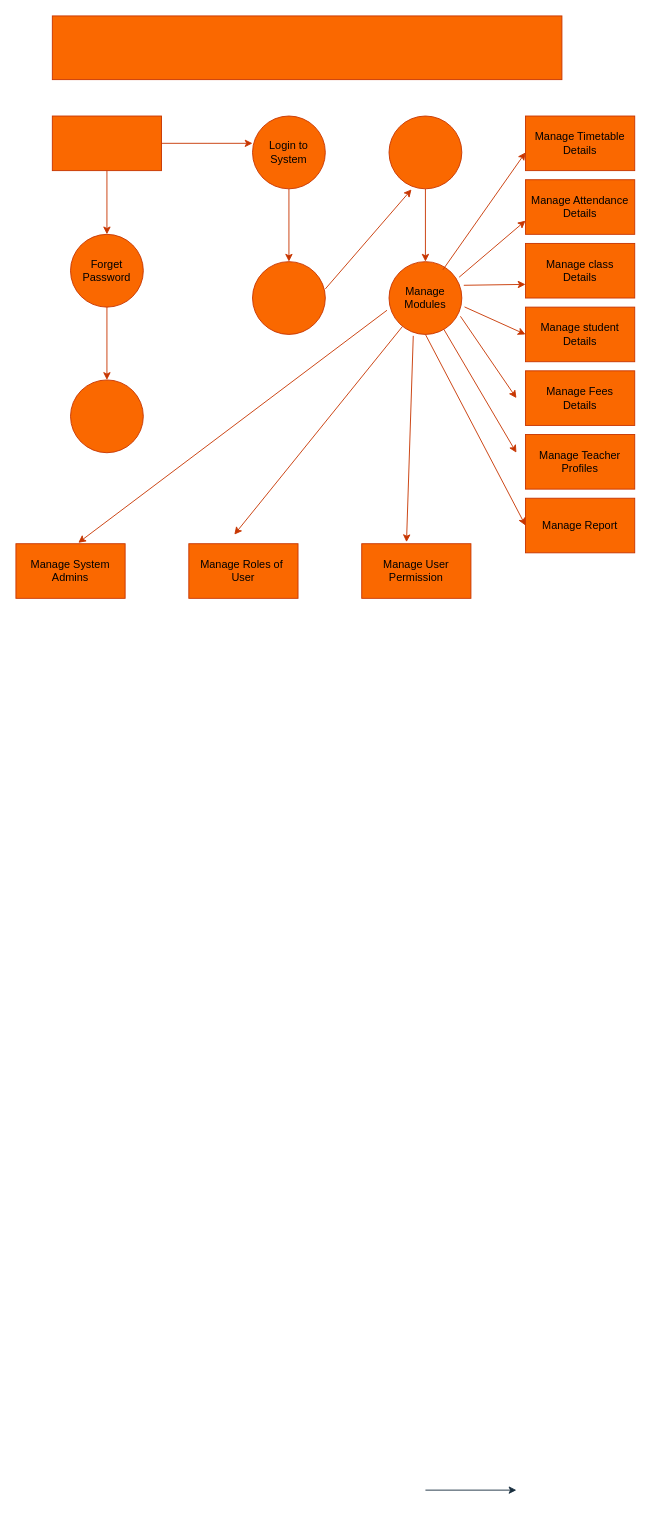
Image size: 651x1513. Some labels were removed from this diagram. Here are the shapes that lost their labels. From the top down, the centre of each, then its label:
At (x=306, y=47): "STUDENT INFORMATION SYSYTEM".
At (x=106, y=143): "Admin".
At (x=425, y=152): "Check Roles Access".
At (x=288, y=297): "Check Crendentials".
At (x=106, y=416): "Send Email to User".
